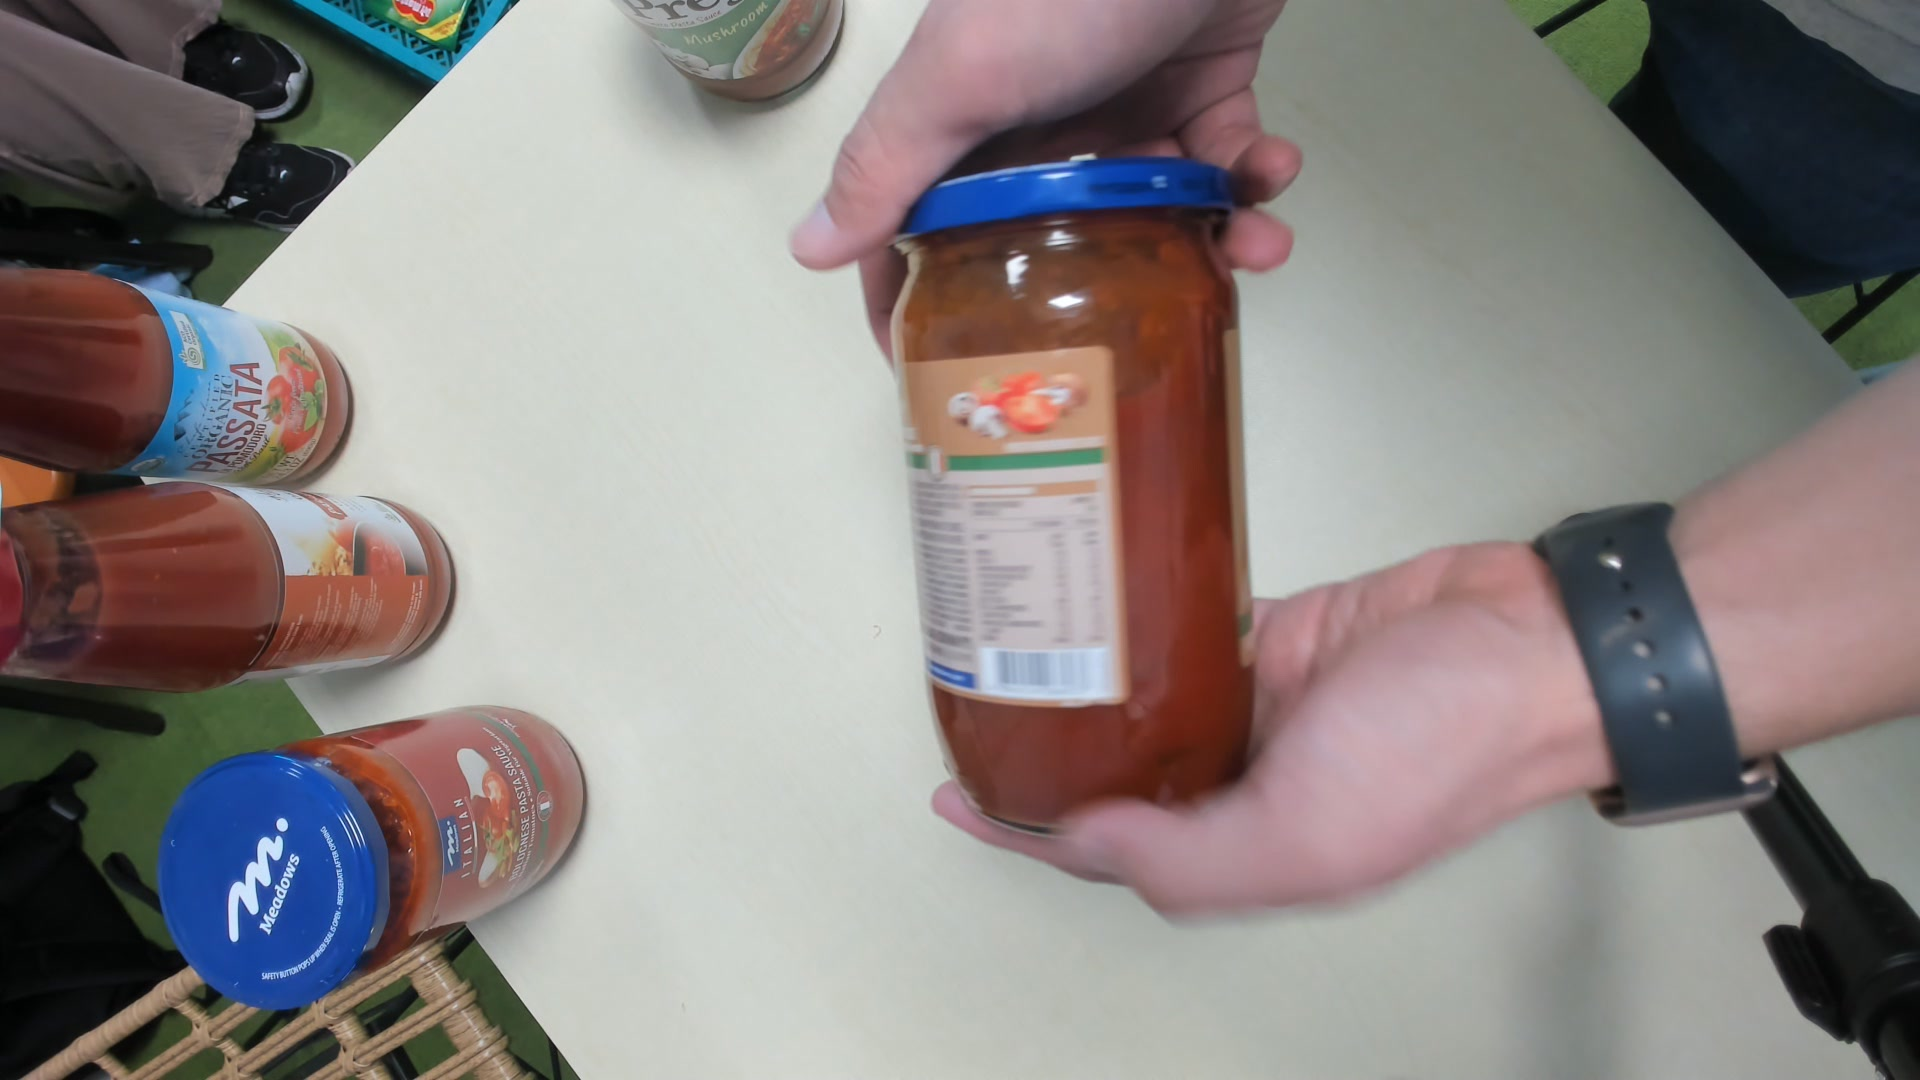PastaSauce_600-699g_Halal_NonHealthy: (890, 152, 1255, 835)
